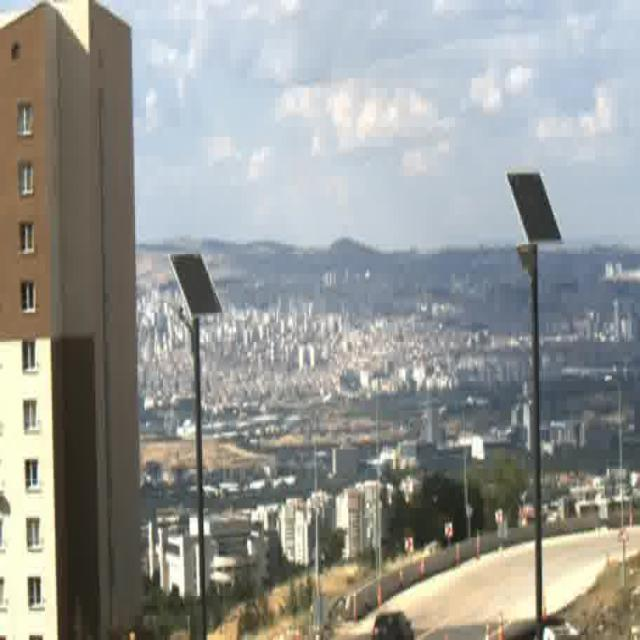Car: (372, 613, 415, 640)
